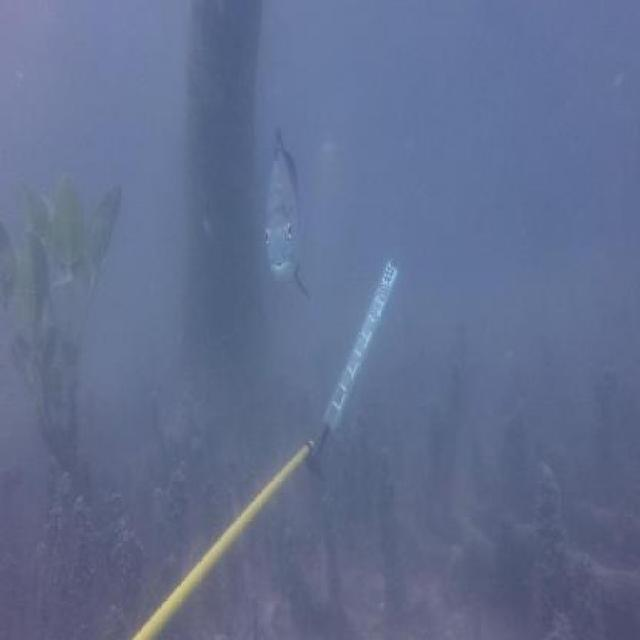acanthopagrus_palmaris: (261, 127, 317, 310)
